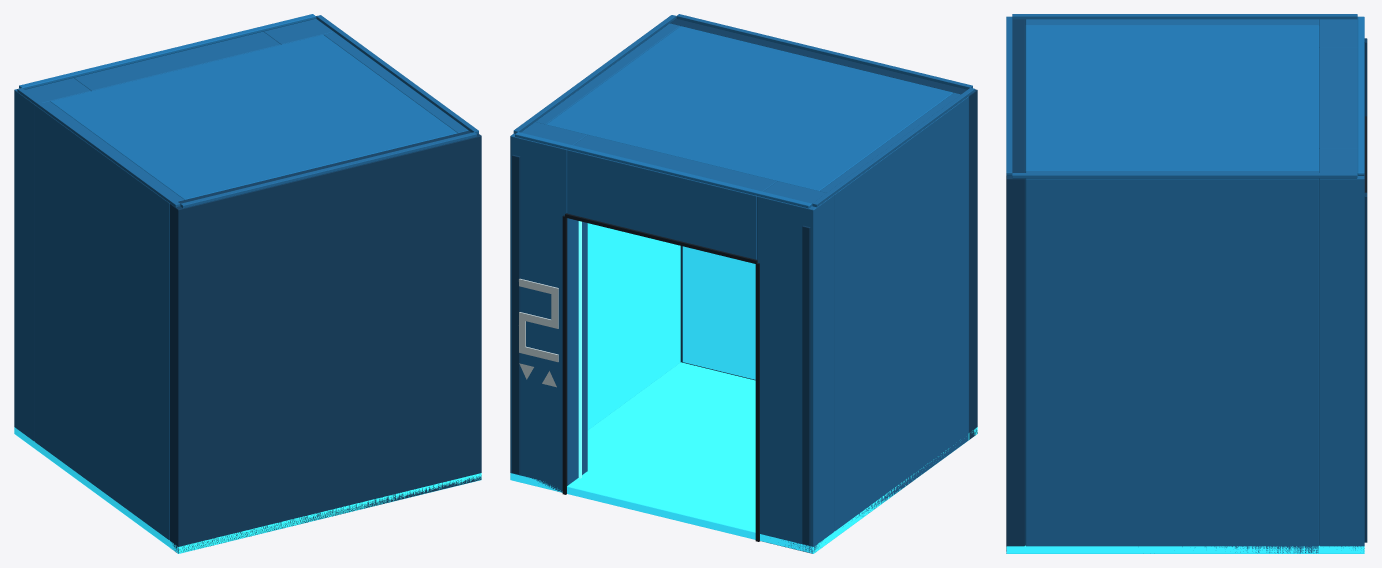
The model's file is SM_VR_Elevator.fbx.
3 views of the same model, side by side, from view 1: azimuth 30°, elevation 25°; view 2: azimuth 150°, elevation 25°; view 3: azimuth 270°, elevation 25° (orthographic). The views are drawn at different scales.
Visible parts, largest first — view 1: SM_VR_Elevator; view 2: SM_VR_Elevator; view 3: SM_VR_Elevator.
Part boxes in pixels (x1,y1,x2,y2): SM_VR_Elevator: (14, 14, 481, 553); SM_VR_Elevator: (510, 14, 977, 553); SM_VR_Elevator: (1006, 14, 1367, 553).
Size of the model in its own units: 320 by 303 by 350.
